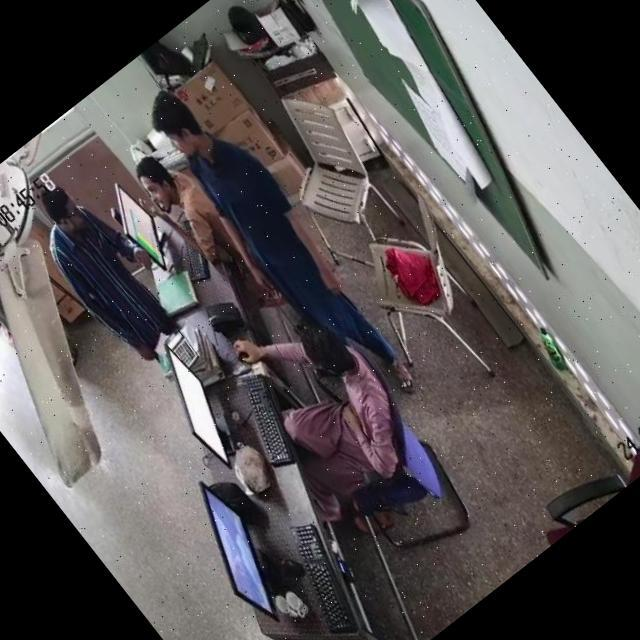person: (144, 75, 424, 411), (240, 312, 422, 506), (19, 174, 188, 365), (127, 138, 270, 300)
